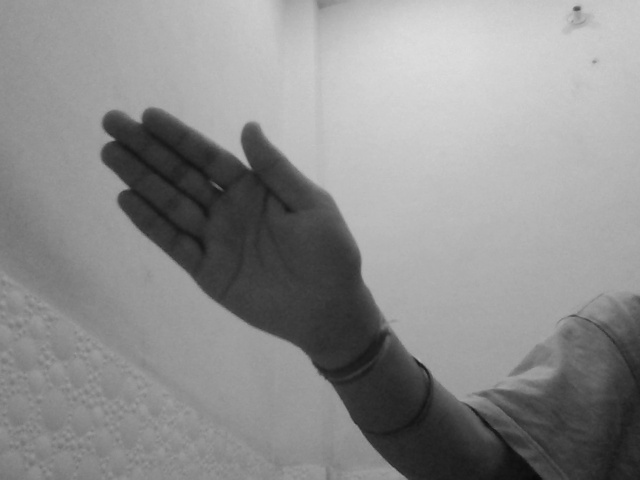Hello: (96, 103, 368, 358)
